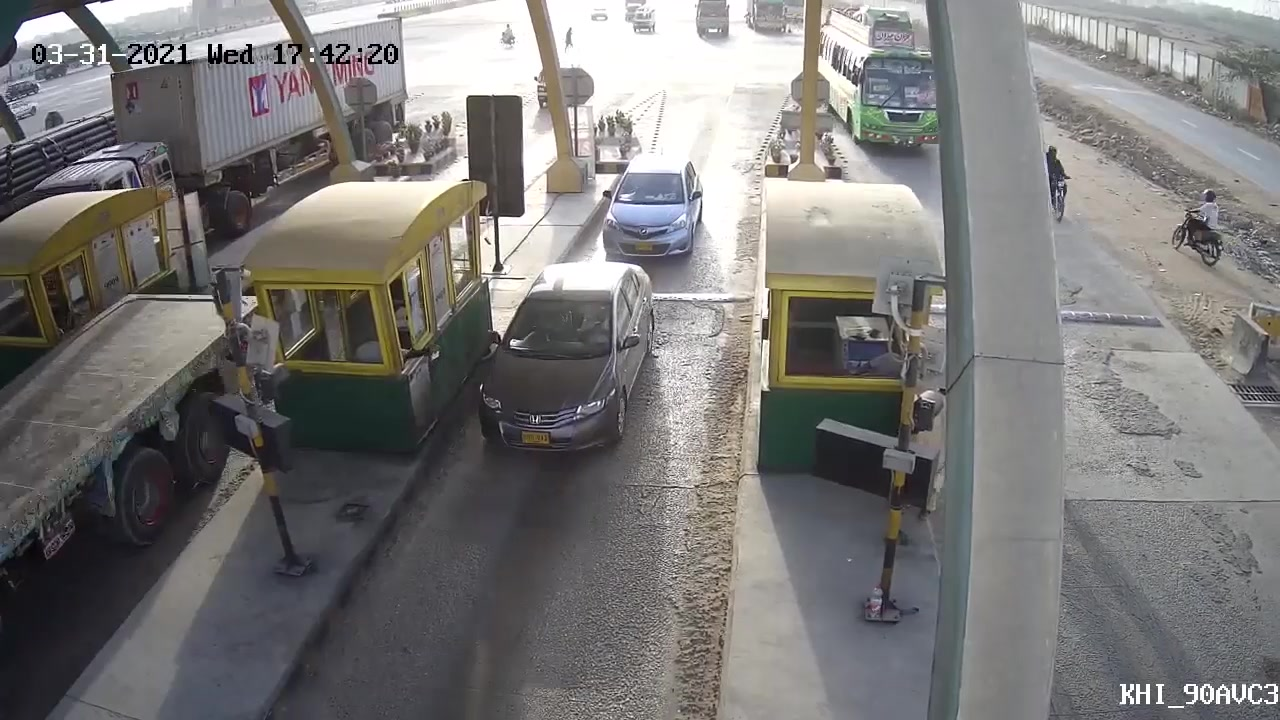F1: (474, 260, 653, 462), (594, 147, 711, 266)
